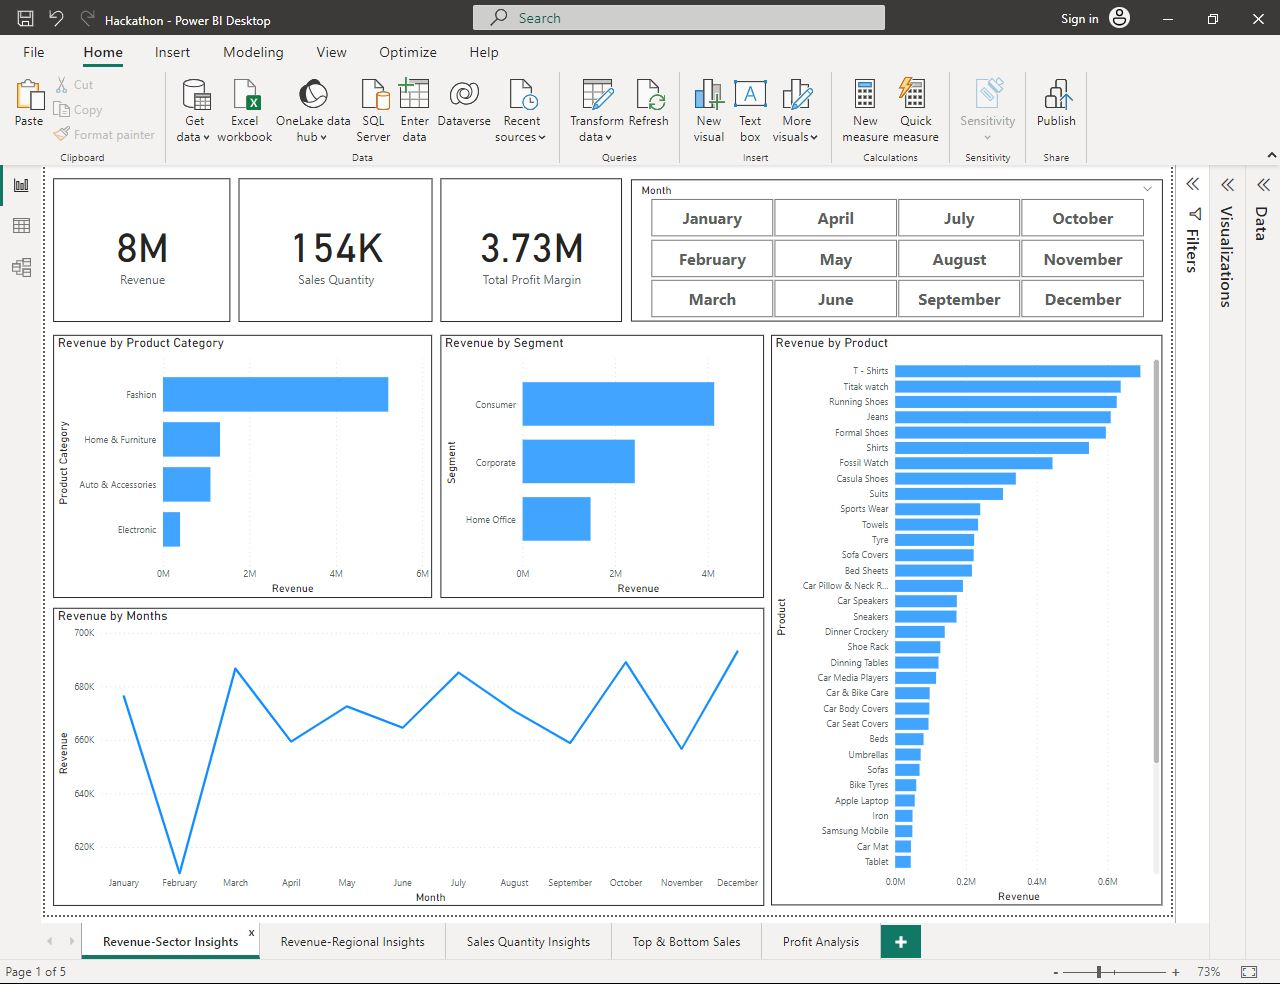

What the dashboard file says about the page in this screenshot:
{"tool":"powerbi","page":{"name":"Revenue-Sector Insights","canvas":[1500,1000],"ordinal":0},"visuals":[{"type":"card","fields":{"Values":["BaseMeasures.Revenue"]},"box":[11,17.3,248.2,191.7],"z":0},{"type":"barChart","fields":{"Y":["BaseMeasures.Revenue"],"Category":["Sales.Product Category"]},"box":[11,227.8,549.9,339.3],"z":1000},{"type":"barChart","fields":{"Y":["BaseMeasures.Revenue"],"Category":["Sales.Product"]},"box":[961.5,227.8,529.4,760.4],"z":2000},{"type":"lineChart","title":"Revenue by Months","fields":{"Category":["Sales.Order Date.Variation.Date Hierarchy.Month"],"Y":["BaseMeasures.Revenue"]},"box":[11,573.4,934.8,414.7],"z":3000},{"type":"barChart","fields":{"Y":["BaseMeasures.Revenue"],"Category":["Sales.Segment"]},"box":[579.7,229.4,366,337.8],"z":4000},{"type":"card","fields":{"Values":["BaseMeasures.Sales Quantity"]},"box":[271.8,17.3,268.6,191.7],"z":5000},{"type":"card","fields":{"Values":["BaseMeasures.Total Profit Margin"]},"box":[559.3,18.9,262.4,190.1],"z":6000},{"type":"slicer","title":"Revenue by Months","fields":{"Values":["Sales.Order Date.Variation.Date Hierarchy.Month"]},"box":[825.1,17.8,665.9,192.2],"z":7000}]}

Visuals, with their boxes on the page's 1500x1000 design canvas (x1, y1, x2, y2). These are canvas units, not pixel positions in the 1280x984 screenshot, which may show the page scaled, cropped or inside an application window:
card - BaseMeasures.Revenue: (left=11, top=17, right=259, bottom=209)
barChart - BaseMeasures.Revenue x Sales.Product Category: (left=11, top=228, right=561, bottom=567)
barChart - BaseMeasures.Revenue x Sales.Product: (left=962, top=228, right=1491, bottom=988)
"Revenue by Months" lineChart: (left=11, top=573, right=946, bottom=988)
barChart - BaseMeasures.Revenue x Sales.Segment: (left=580, top=229, right=946, bottom=567)
card - BaseMeasures.Sales Quantity: (left=272, top=17, right=540, bottom=209)
card - BaseMeasures.Total Profit Margin: (left=559, top=19, right=822, bottom=209)
"Revenue by Months" slicer: (left=825, top=18, right=1491, bottom=210)
